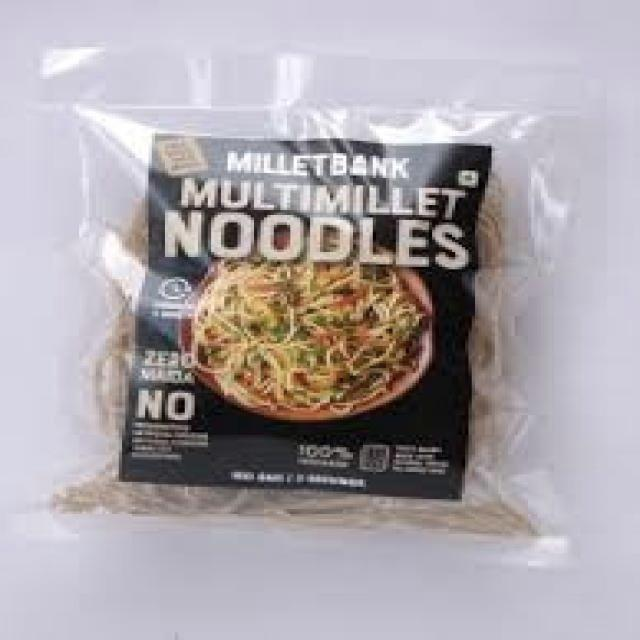noodles: (28, 29, 603, 590)
